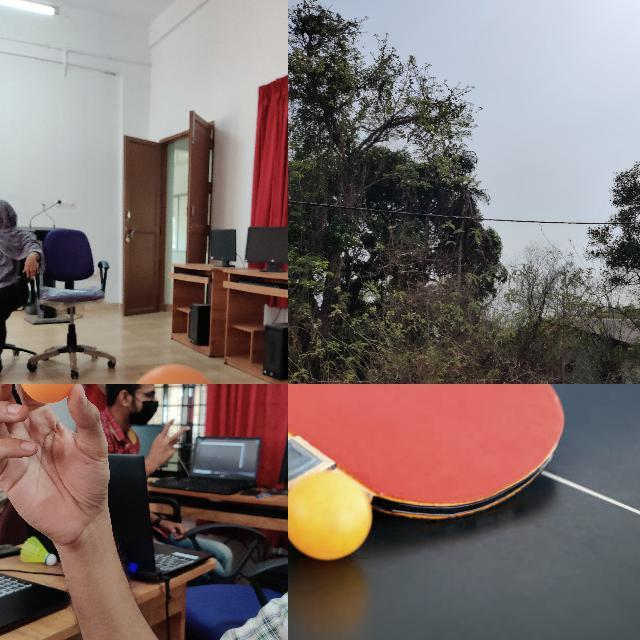ping-pong-ball: (288, 472, 372, 561), (17, 384, 77, 403)
